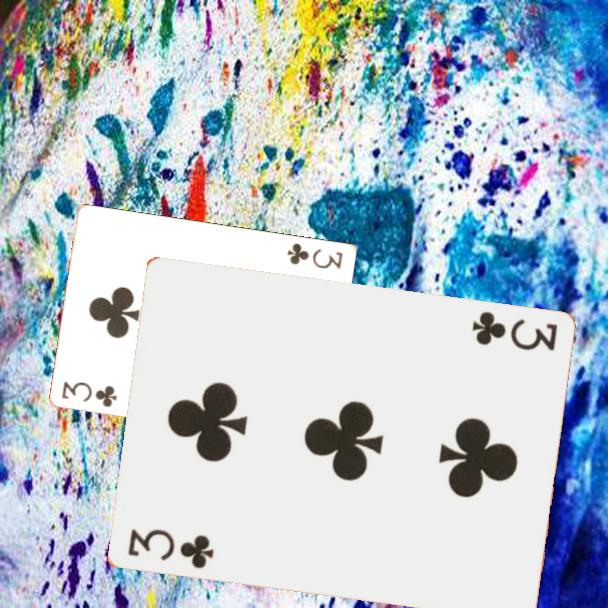c03: (123, 526, 217, 572), (468, 308, 560, 354), (284, 239, 346, 272), (59, 377, 120, 410)
